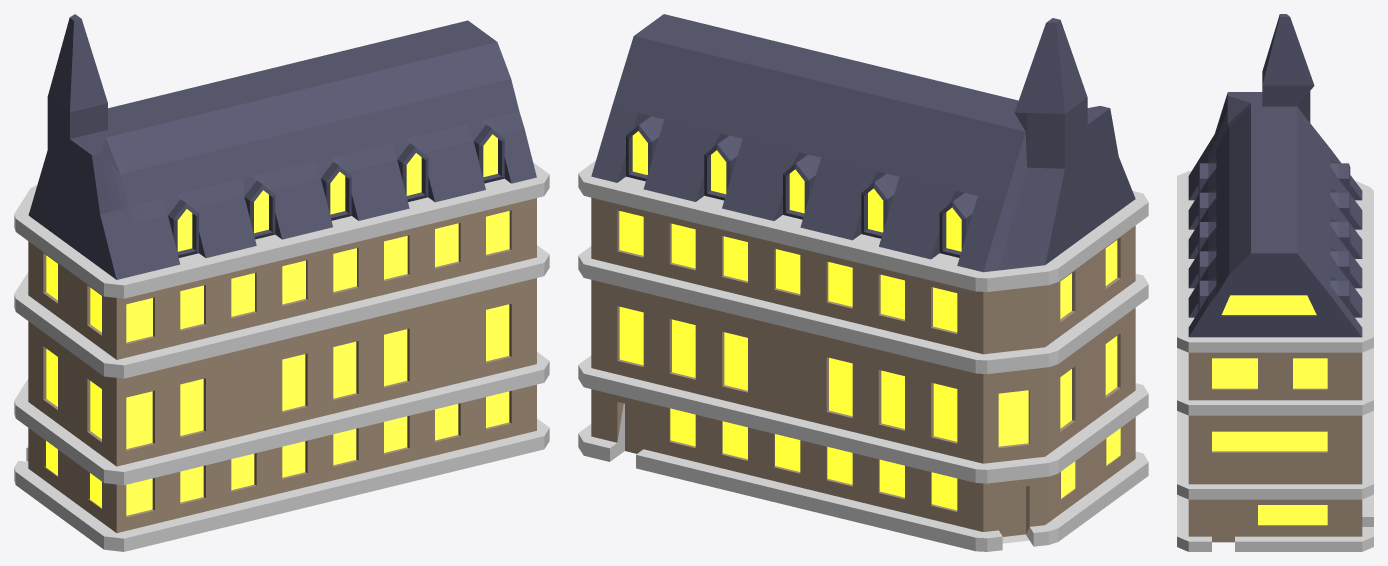
Rendered from HouseBlue1_LOD1.fbx.
3 views of the same model, side by side, from view 1: azimuth 30°, elevation 25°; view 2: azimuth 150°, elevation 25°; view 3: azimuth 270°, elevation 25° (orthographic). The views are drawn at different scales.
Parts seen in each view (by area): view 1: Cube; view 2: Cube; view 3: Cube.
Boxes of the visible parts, x1,y1,x2,y2 form: Cube: (14, 14, 549, 551); Cube: (578, 14, 1148, 551); Cube: (1177, 14, 1373, 551).
Bounding box in the file's own units: 3500 × 3600 × 1700.
